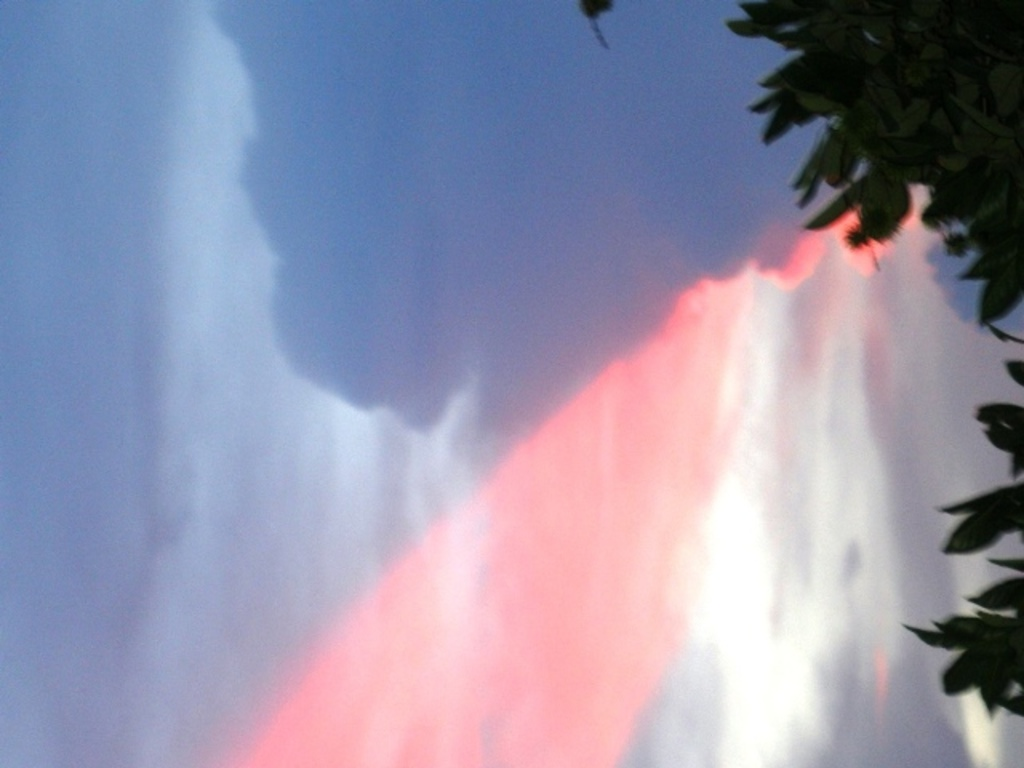Tree: (577, 0, 1024, 721)
